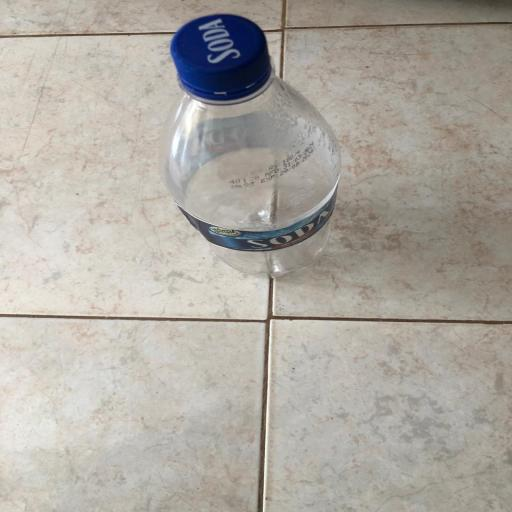waste: (154, 10, 354, 294)
